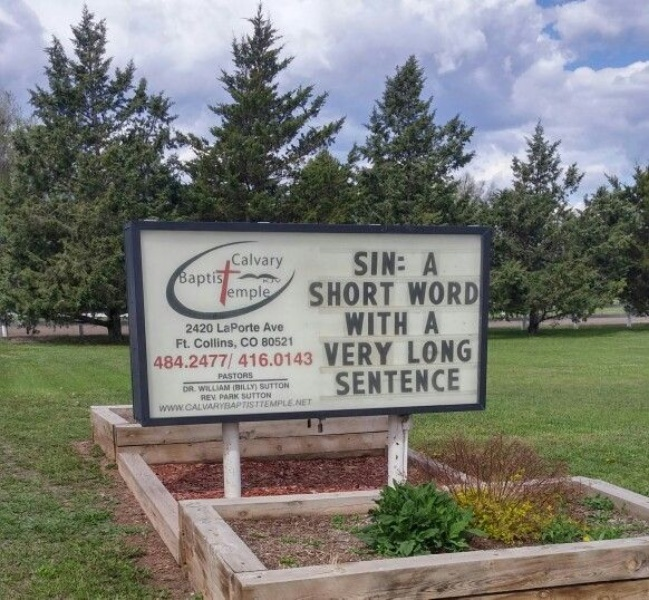text: (225, 260, 241, 307), (337, 367, 352, 396), (353, 367, 368, 396), (369, 367, 384, 396), (385, 367, 400, 396), (401, 367, 416, 396), (417, 367, 432, 396), (433, 367, 448, 396), (369, 251, 384, 277), (385, 251, 400, 277), (216, 260, 224, 307), (321, 282, 336, 307), (337, 282, 352, 307), (353, 282, 368, 307), (369, 282, 384, 307), (353, 311, 368, 336), (369, 311, 384, 336), (385, 311, 400, 336), (354, 251, 368, 277), (337, 342, 352, 366), (353, 342, 368, 366), (369, 342, 384, 366), (417, 340, 432, 364), (433, 340, 448, 364), (449, 340, 464, 364), (417, 282, 432, 305), (433, 282, 448, 305), (449, 282, 464, 305), (465, 282, 480, 305), (449, 367, 460, 396), (324, 342, 336, 366), (309, 282, 320, 307), (241, 351, 256, 369), (257, 351, 272, 369), (273, 351, 288, 369), (289, 351, 304, 369), (421, 253, 432, 277), (241, 253, 256, 270), (257, 253, 272, 270), (193, 272, 208, 289), (385, 282, 395, 307), (241, 285, 256, 301), (161, 354, 176, 370), (177, 354, 192, 370), (193, 354, 208, 370), (209, 354, 224, 370), (228, 352, 240, 371), (179, 272, 192, 289), (209, 272, 222, 289), (423, 311, 432, 335), (385, 342, 394, 366), (161, 398, 176, 412), (177, 398, 192, 412), (193, 398, 208, 412), (209, 398, 224, 412), (225, 398, 240, 412), (241, 398, 256, 412), (257, 398, 272, 412), (273, 398, 288, 412), (289, 398, 304, 412), (227, 285, 240, 301), (257, 285, 270, 301), (401, 311, 409, 336), (209, 337, 224, 350), (408, 340, 416, 364), (273, 253, 284, 270), (408, 282, 416, 305), (345, 311, 352, 336), (195, 337, 208, 350), (225, 337, 238, 350), (433, 311, 440, 335), (465, 340, 472, 364), (177, 338, 191, 350), (225, 323, 240, 334), (241, 323, 256, 334), (273, 336, 288, 347), (305, 351, 314, 369), (231, 253, 240, 270), (193, 324, 208, 334), (241, 337, 256, 347), (433, 253, 439, 277), (257, 392, 273, 401), (225, 372, 240, 381), (209, 384, 224, 393), (241, 383, 256, 392), (241, 392, 256, 401), (273, 322, 285, 333), (401, 251, 406, 277), (273, 382, 289, 390), (261, 336, 272, 347), (241, 372, 254, 381), (153, 354, 160, 370), (305, 398, 313, 412), (225, 394, 240, 401), (259, 382, 272, 390), (273, 277, 283, 286), (198, 384, 208, 393), (264, 322, 272, 333), (263, 277, 272, 286), (217, 323, 224, 334), (232, 383, 240, 392), (182, 386, 192, 393), (200, 394, 208, 402), (209, 394, 217, 402), (217, 372, 224, 381), (186, 324, 192, 334), (209, 324, 215, 334), (289, 336, 294, 347), (225, 384, 231, 393), (225, 354, 228, 370), (218, 394, 224, 401), (238, 351, 240, 369), (257, 323, 260, 334), (335, 367, 336, 396), (257, 337, 259, 347), (193, 386, 195, 393), (159, 398, 160, 412), (257, 383, 258, 392)
